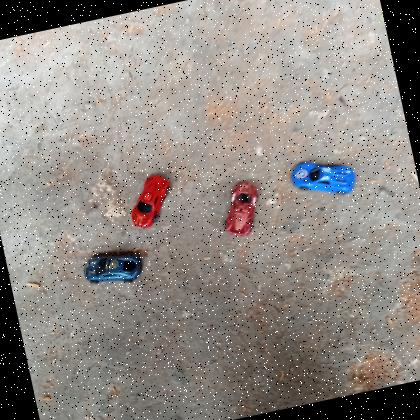Car: (130, 175, 172, 230), (290, 162, 357, 195), (225, 181, 259, 237), (84, 255, 141, 284)
